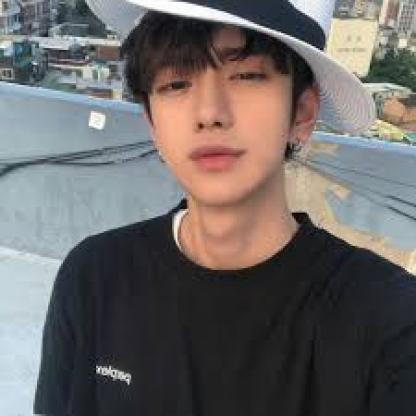person: (109, 0, 327, 209)
